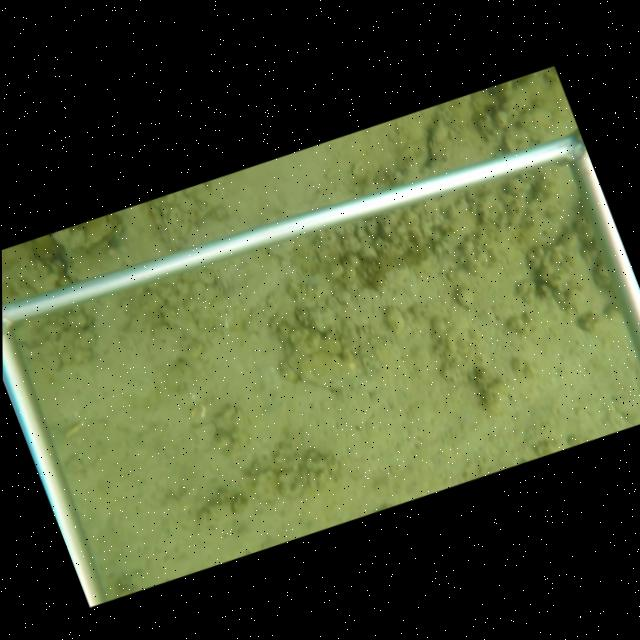Oyster-Closed: (149, 205, 183, 250)
Oyster-Indeterminate: (282, 348, 363, 391)
